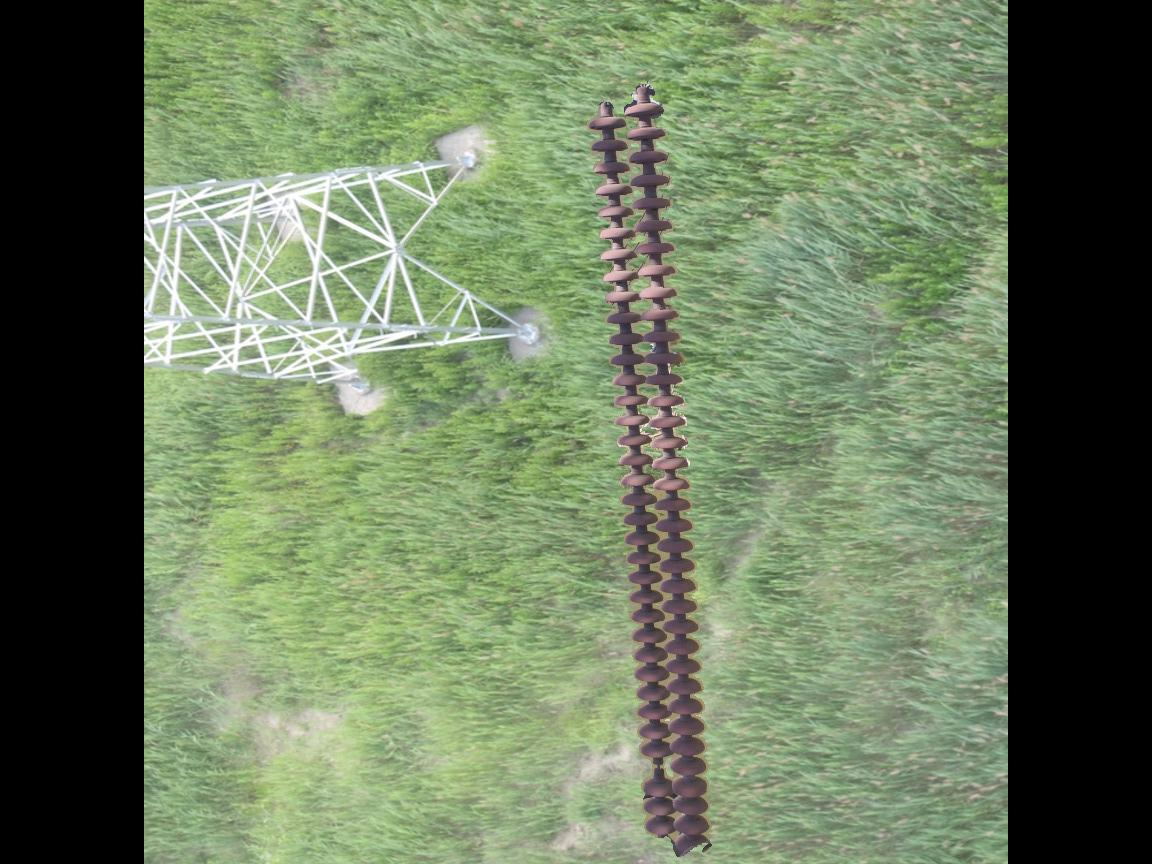insulator: (584, 91, 718, 857)
insulator_stringdrop: (638, 741, 678, 801)
